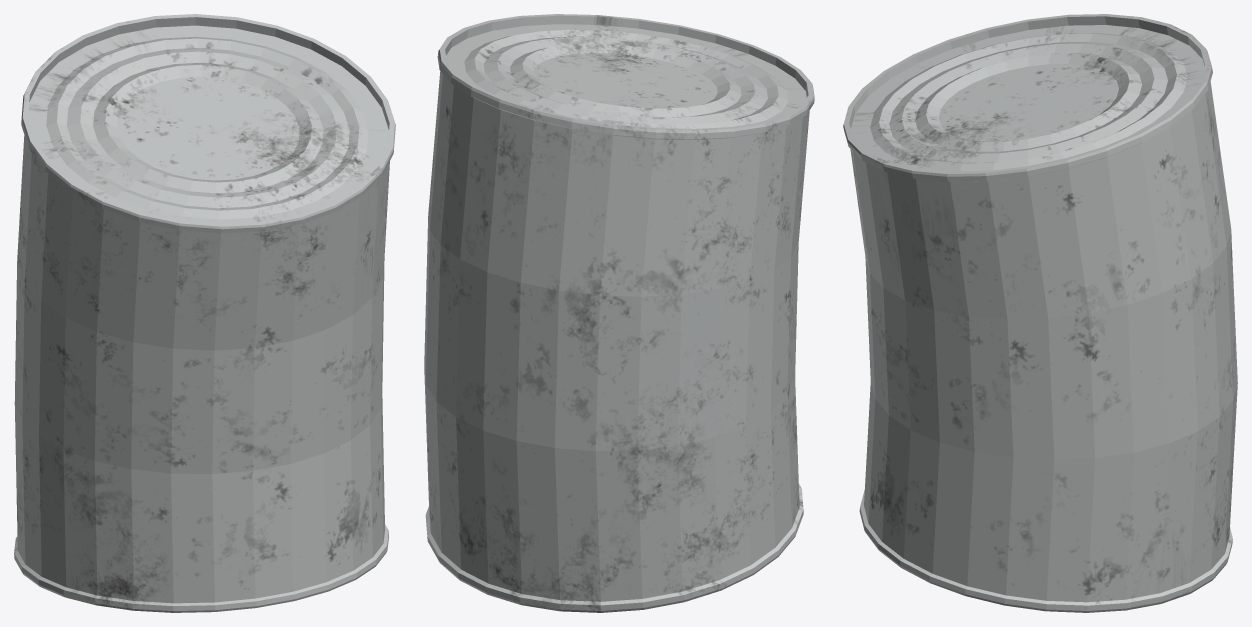
File: bend_low_0.obj
3 renders of one model, left to right at view 1: azimuth 30°, elevation 25°; view 2: azimuth 150°, elevation 25°; view 3: azimuth 270°, elevation 25°, orthographic.
Parts seen in each view (by area): view 1: Cam_l__0; view 2: Cam_l__0; view 3: Cam_l__0.
Boxes of the visible parts, x1,y1,x2,y2 form: Cam_l__0: [14, 14, 395, 612]; Cam_l__0: [424, 14, 814, 612]; Cam_l__0: [843, 14, 1237, 612].
Bounding box in the file's own units: 0.0939 × 0.1324 × 0.0983.
1 material, 1 textured.
